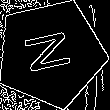N_E: (21, 28, 81, 78)
